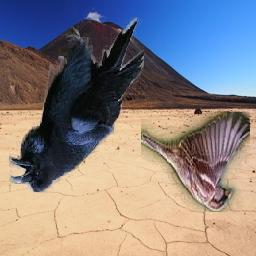Crow: (10, 17, 145, 193)
Sparrow: (142, 112, 251, 212)
